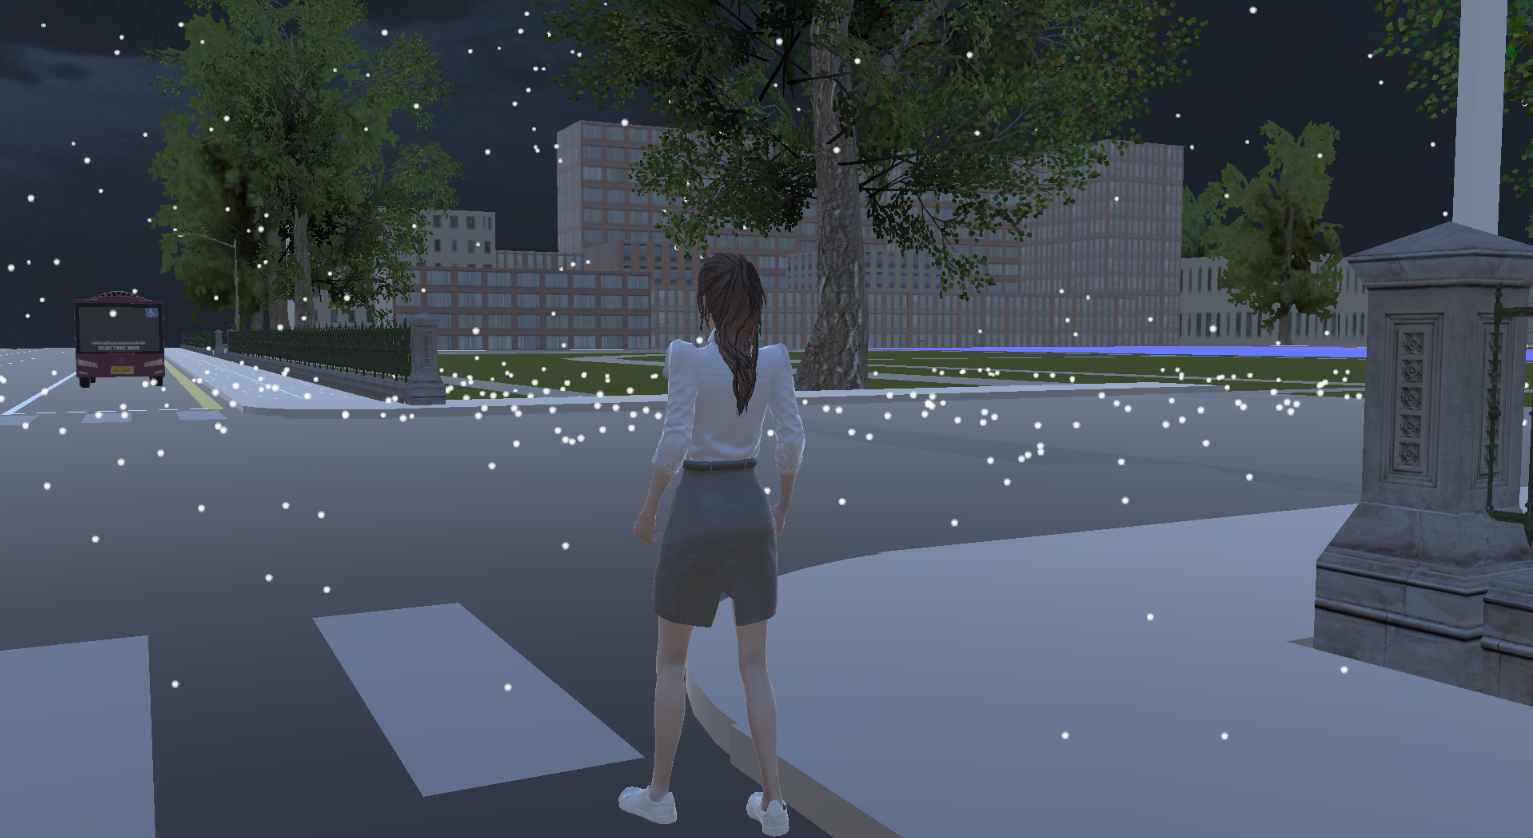pedestrian: (614, 240, 819, 838)
